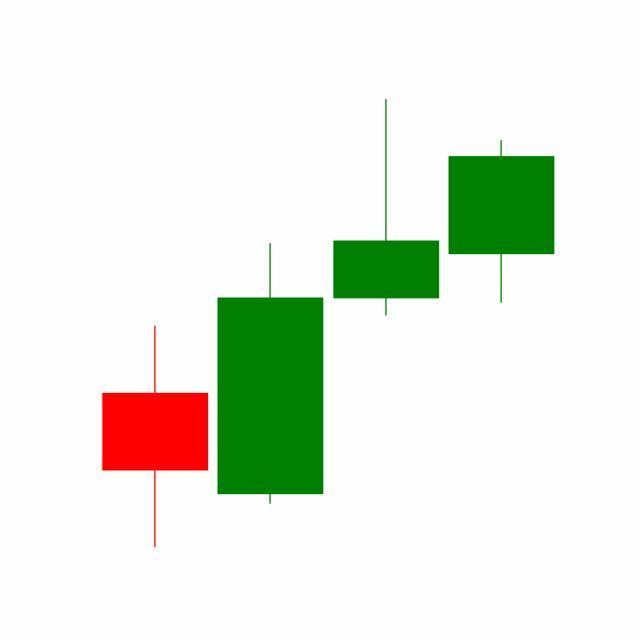Advance Block: (211, 100, 555, 509)
